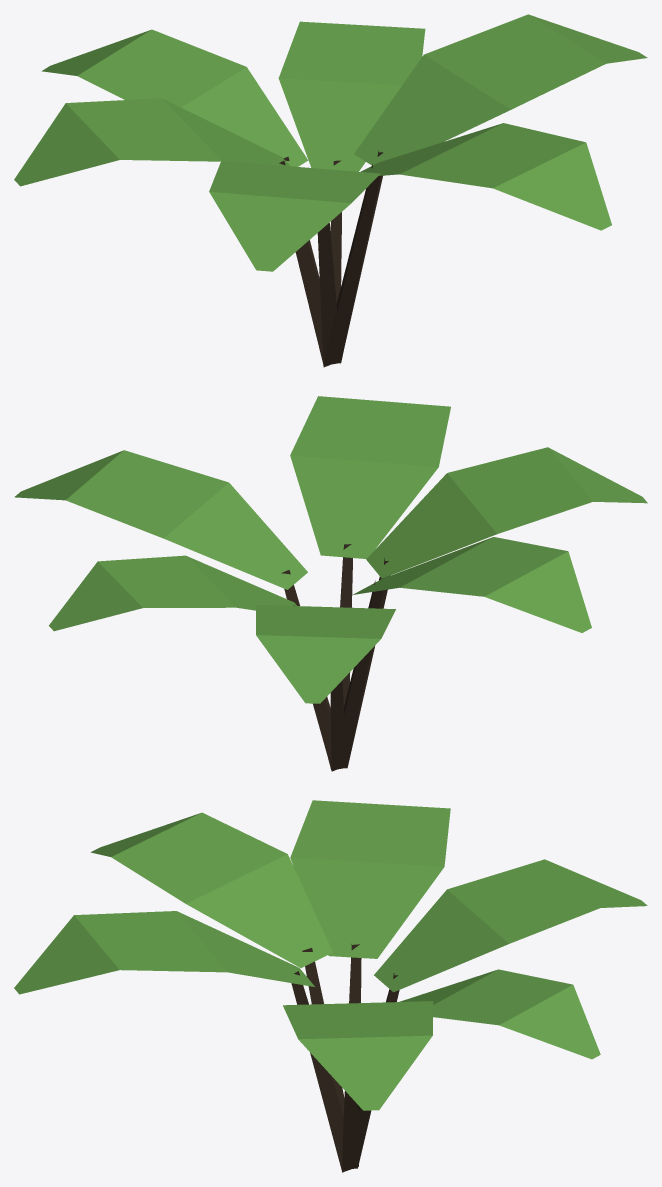
The picture shows the model from 3 angles, top to bottom: view 1: azimuth 30°, elevation 25°; view 2: azimuth 150°, elevation 25°; view 3: azimuth 270°, elevation 25°; orthographic projection. The views are drawn at different scales.
Parts seen in each view (by area): view 1: 草_09; view 2: 草_09; view 3: 草_09.
Boxes of the visible parts, x1,y1,x2,y2 form: 草_09: [14, 14, 647, 367]; 草_09: [14, 396, 647, 771]; 草_09: [14, 800, 647, 1172].
Size of the model in its own units: 1.69 by 0.7196 by 1.56.
